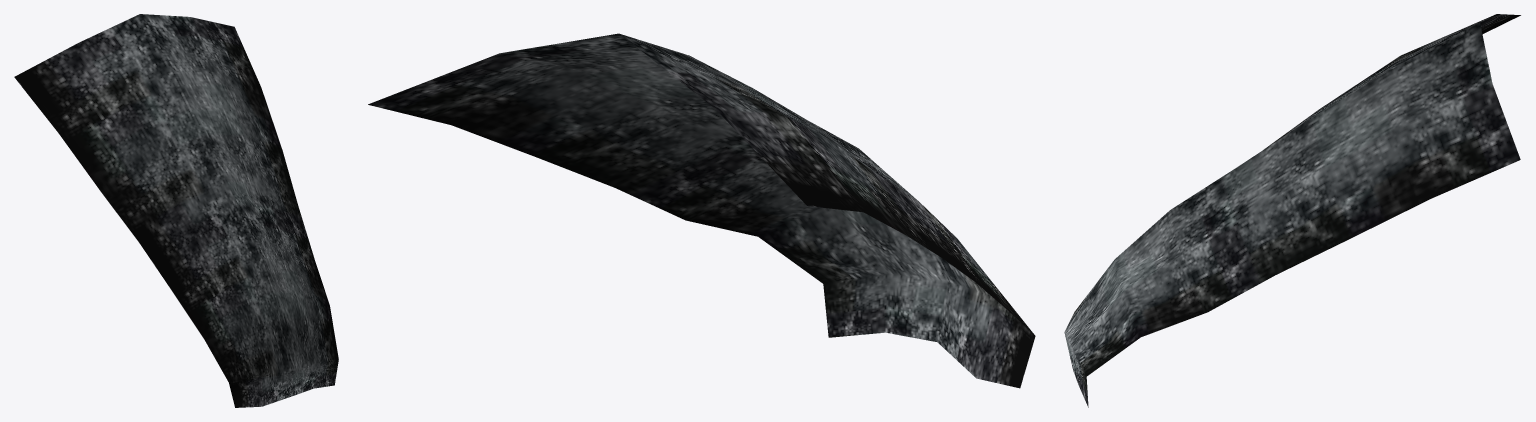
The model's file is water31.obj.
The picture shows the model from 3 angles, left to right: view 1: azimuth 30°, elevation 25°; view 2: azimuth 150°, elevation 25°; view 3: azimuth 270°, elevation 25°; orthographic projection. The views are drawn at different scales.
Parts seen in each view (by area): view 1: water31; view 2: water31; view 3: water31.
Part boxes in pixels (<box>): water31: <box>14,14,338,407</box>; water31: <box>368,33,1035,388</box>; water31: <box>1064,14,1520,407</box>.
Bounding box in the file's own units: 224 × 269 × 309.
